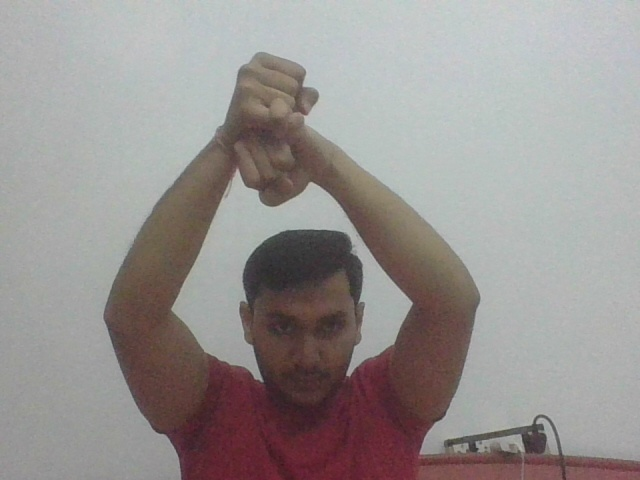S: (223, 47, 326, 209)
